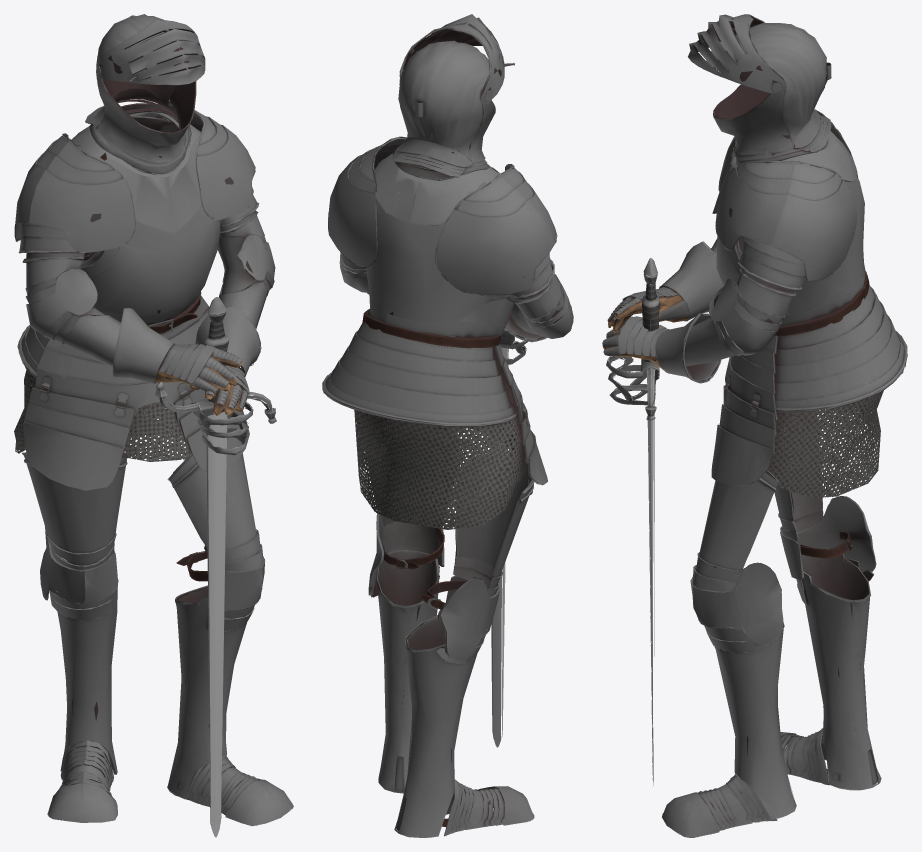
Rendered from armour-blois-5.glb.
The picture shows the model from 3 angles, left to right: view 1: azimuth 30°, elevation 25°; view 2: azimuth 150°, elevation 25°; view 3: azimuth 270°, elevation 25°; orthographic projection. The views are drawn at different scales.
Parts seen in each view (by area): view 1: armour-blois-5; view 2: armour-blois-5; view 3: armour-blois-5.
Part boxes in pixels (bbox=[...]): armour-blois-5: bbox=[14, 14, 293, 837]; armour-blois-5: bbox=[322, 14, 573, 837]; armour-blois-5: bbox=[602, 14, 907, 837].
Size of the model in its own units: 0.5395 by 1.7 by 0.6082.
Materials: 2 (2 with a texture image).
